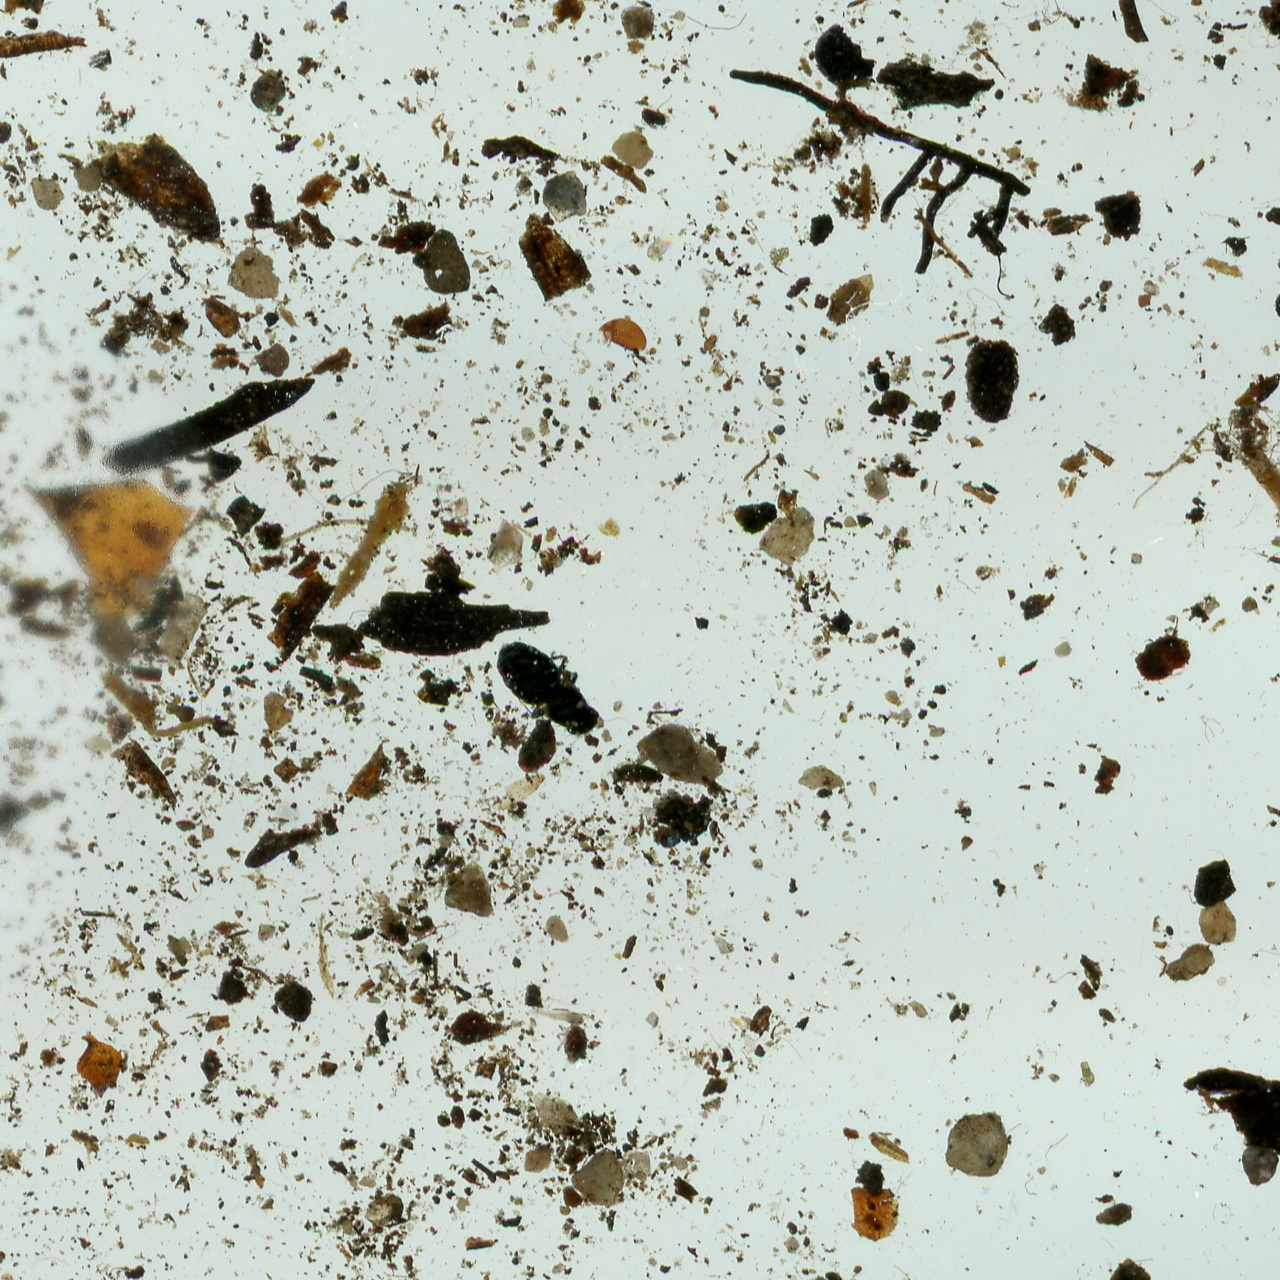arthropod: (476, 618, 640, 770), (596, 315, 648, 354)
